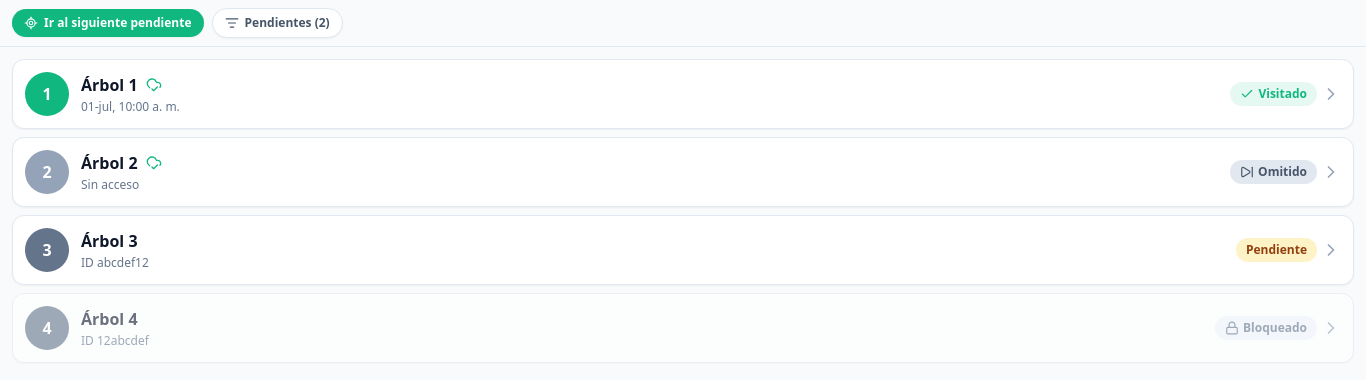
Test: StopList › shows only unresolved stops when the pending filter is active
This screenshot has width=1366, height=380.
Click the button "Pendientes (2)" at (277, 23), box [212,8,343,38]
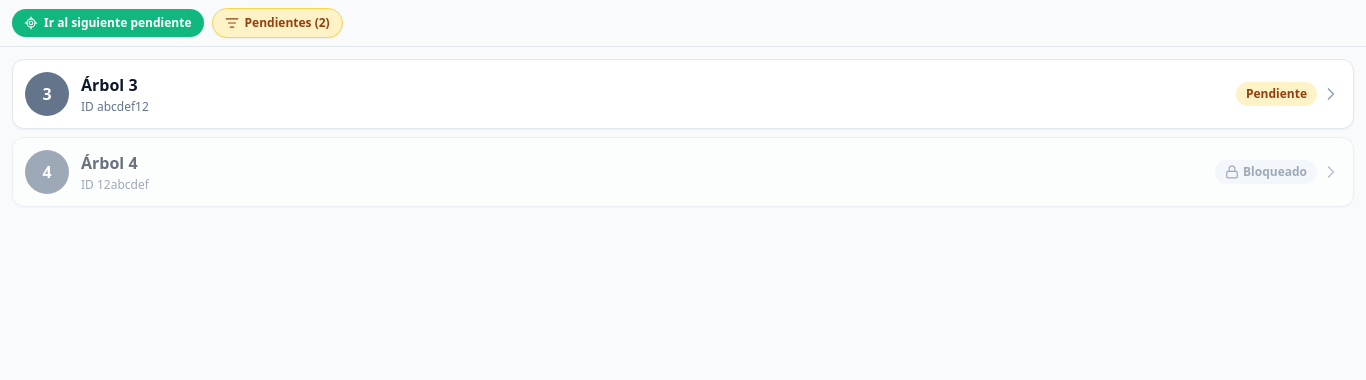
Expected: the button labelled "3 Árbol 3 ID abcdef12 Pendiente" is shown, [12,59,1354,129]
Expected: the number of list items is 2, [12,59,1354,129]; [12,137,1354,207]
